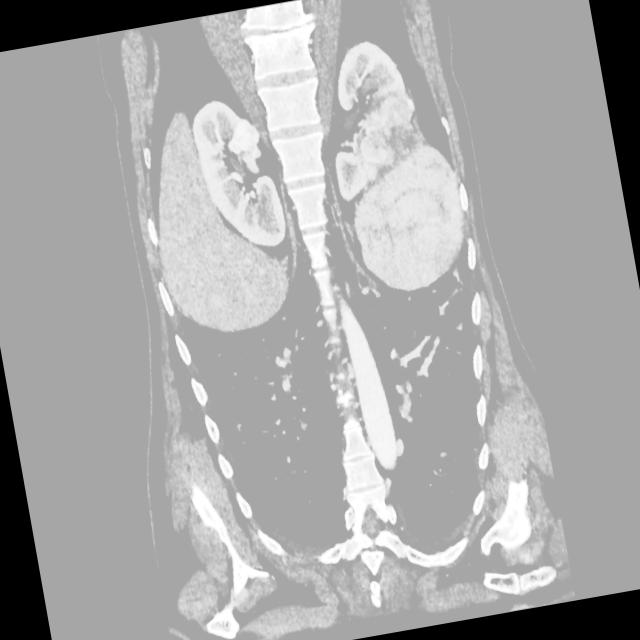TUMOR: (95, 77, 599, 473)
